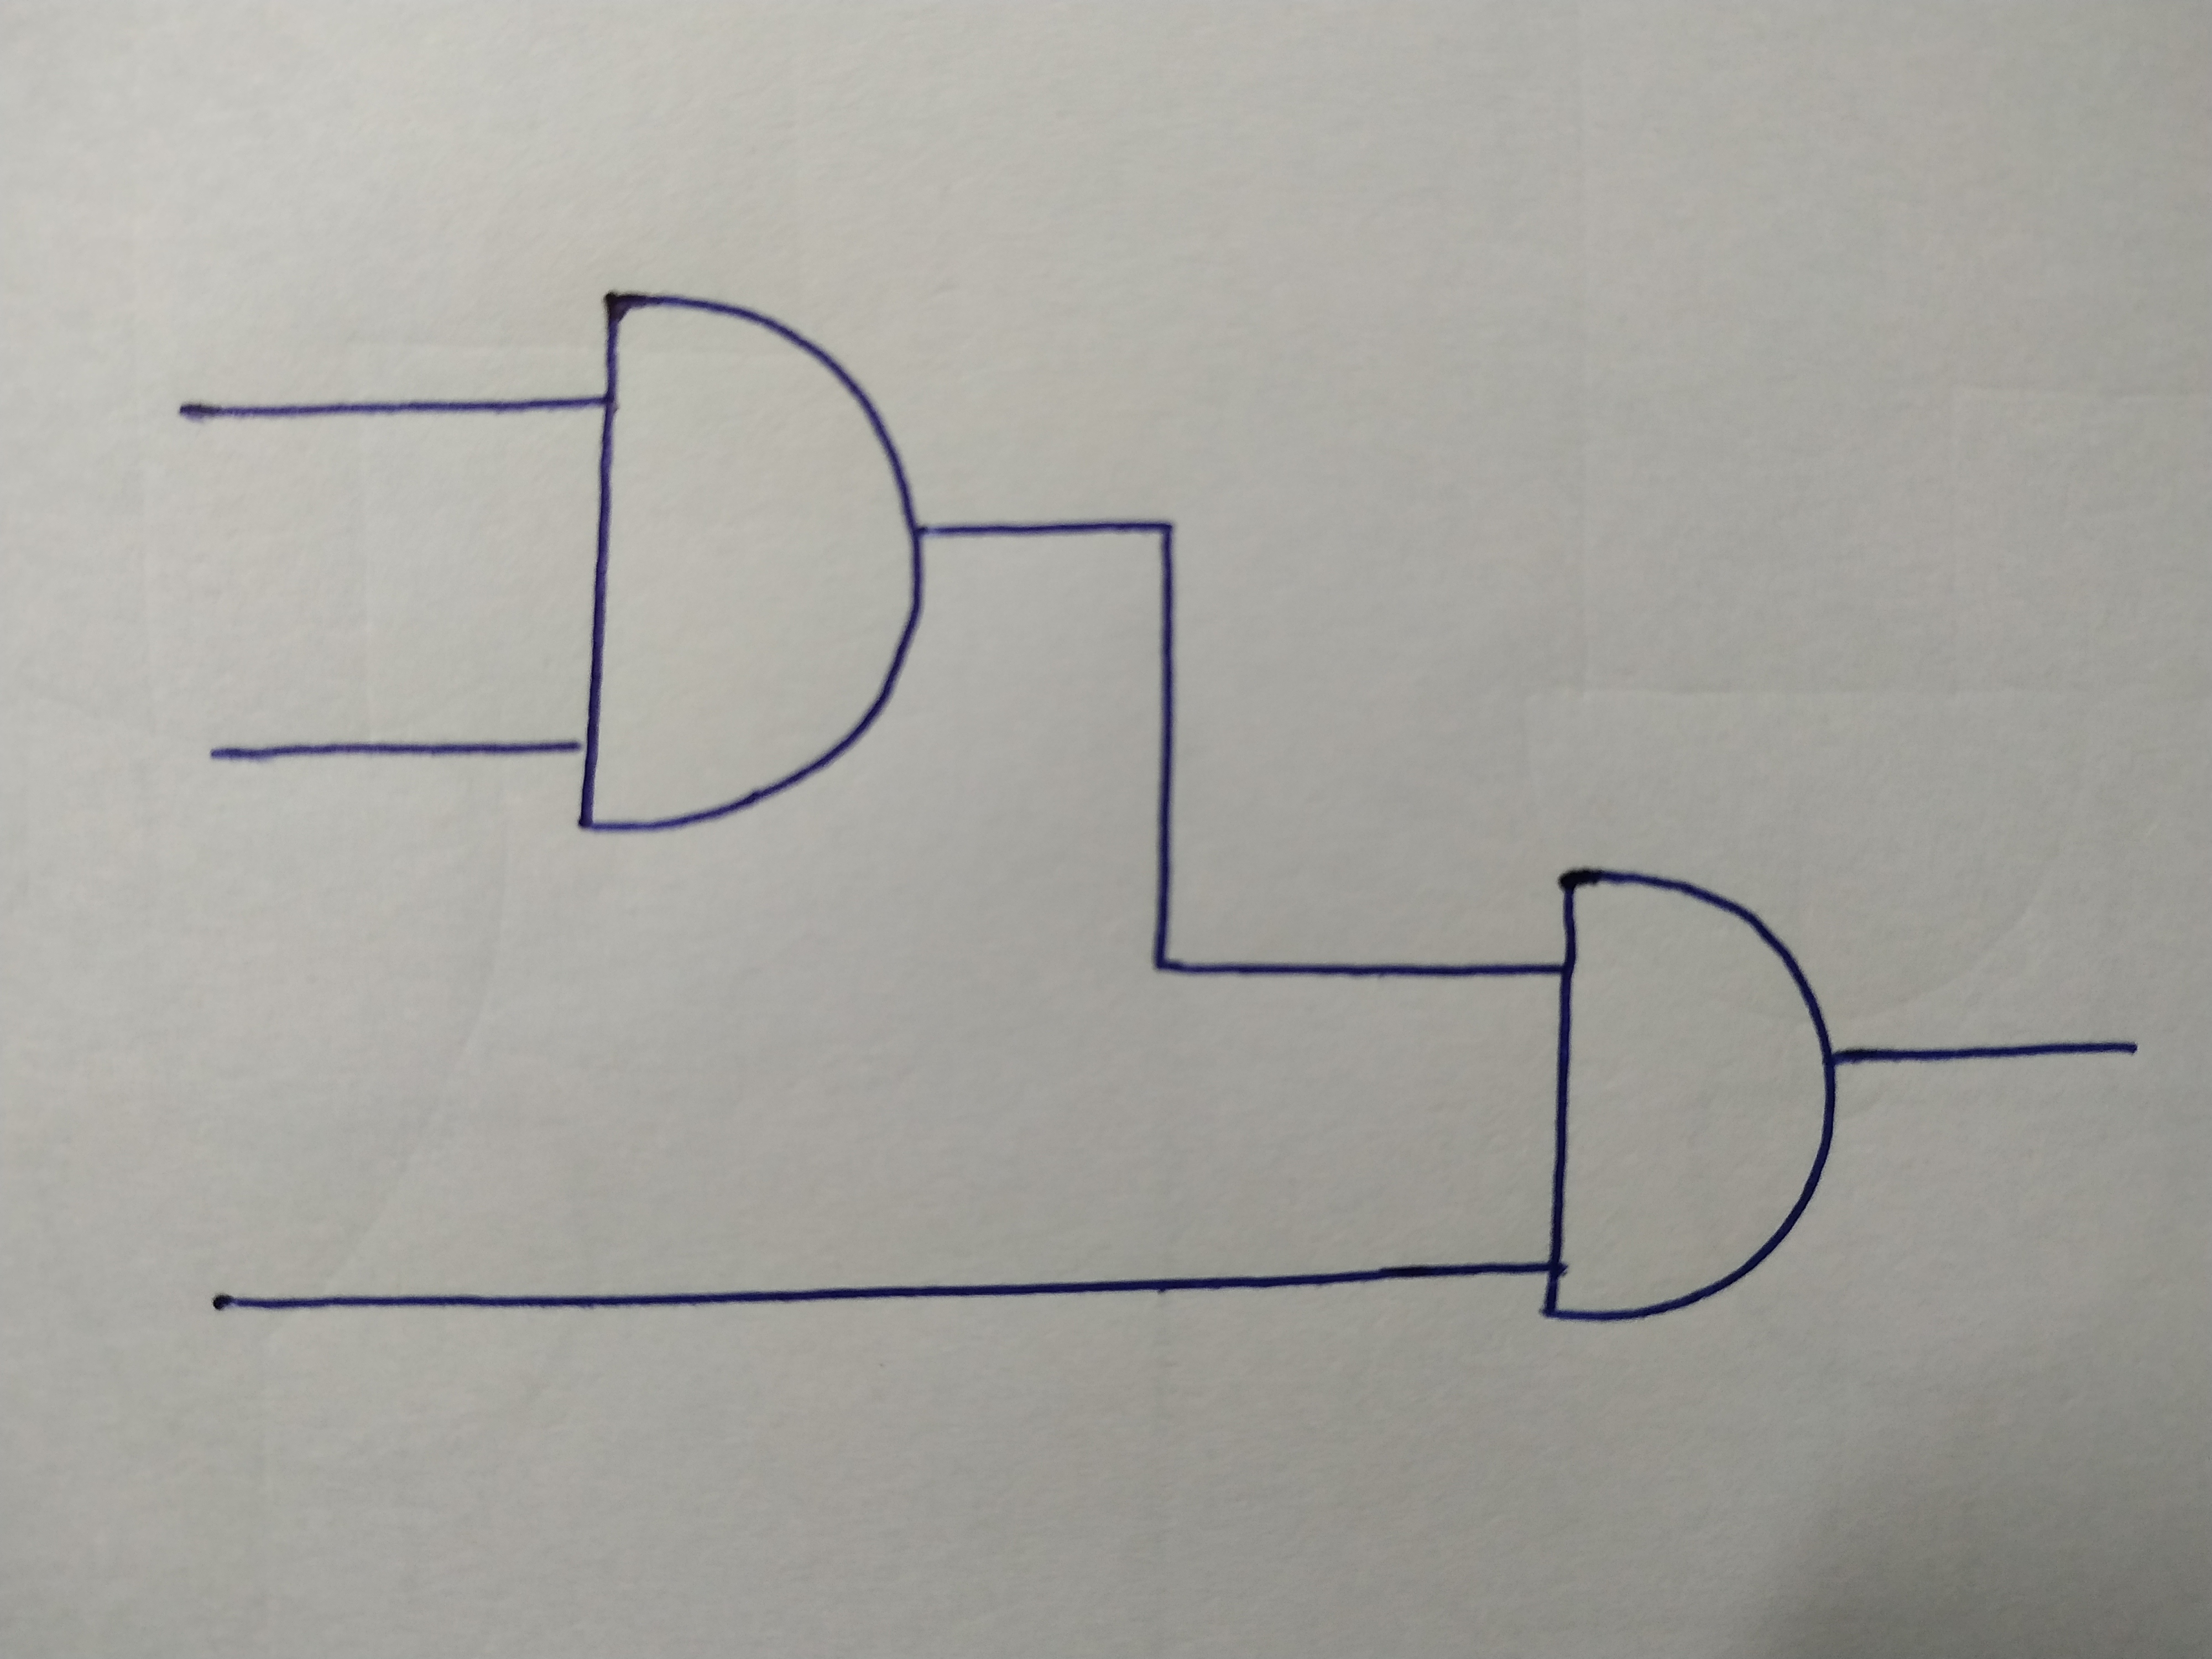and: (564, 289, 916, 838), (1538, 864, 1838, 1328)
